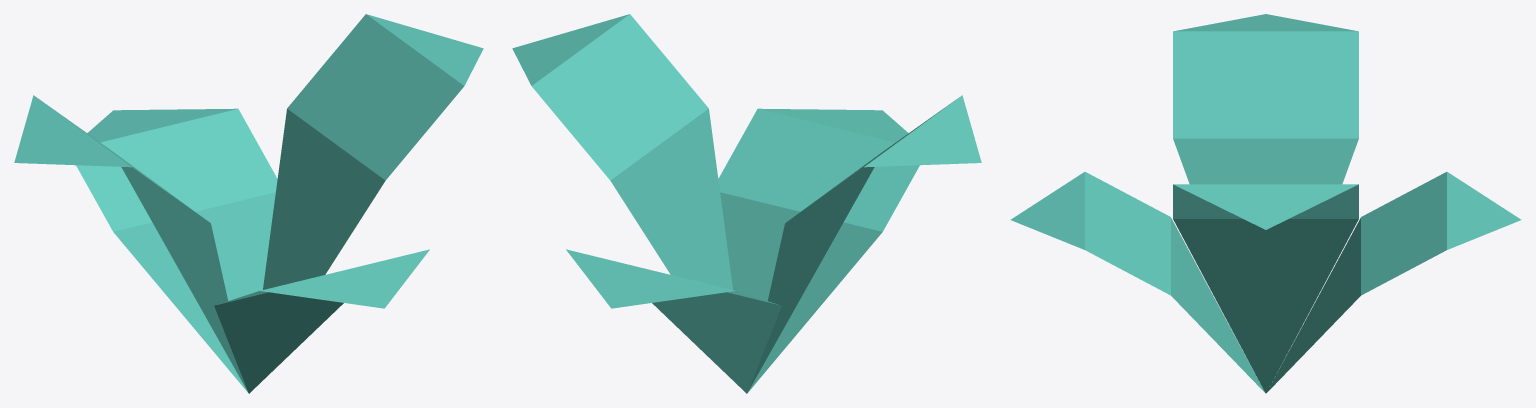
File: plant_bush.glb
The picture shows the model from 3 angles, left to right: view 1: azimuth 30°, elevation 25°; view 2: azimuth 150°, elevation 25°; view 3: azimuth 270°, elevation 25°; orthographic projection. The views are drawn at different scales.
Visible parts, largest first — view 1: plant_bush; view 2: plant_bush; view 3: plant_bush.
Part boxes in pixels (x1=…): plant_bush: x1=14, y1=14, x2=483, y2=393; plant_bush: x1=512, y1=14, x2=981, y2=393; plant_bush: x1=1010, y1=14, x2=1521, y2=393.
Bounding box in the file's own units: 0.396 × 0.2444 × 0.396.
